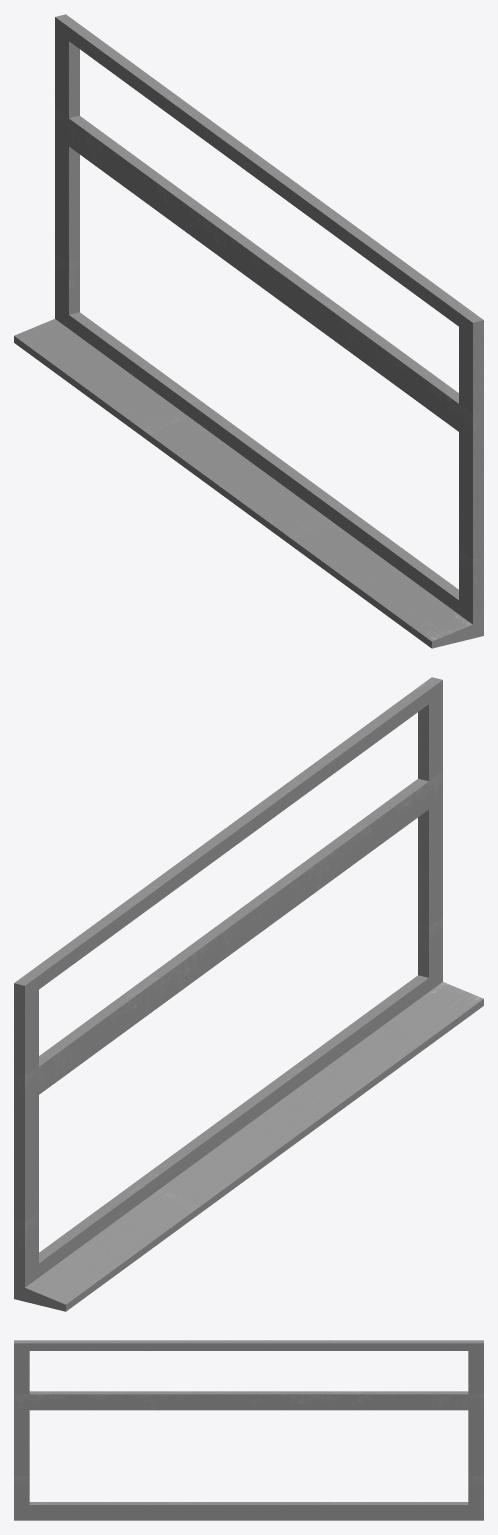
Rendered from Glass 1.fbx.
3 views of the same model, one above another, from view 1: azimuth 30°, elevation 25°; view 2: azimuth 150°, elevation 25°; view 3: azimuth 270°, elevation 25° (orthographic). The views are drawn at different scales.
Parts seen in each view (by area): view 1: Window; view 2: Window; view 3: Window.
Boxes of the visible parts, x1,y1,x2,y2 form: Window: (14, 14, 483, 648); Window: (14, 677, 483, 1311); Window: (14, 1340, 483, 1520).
Size of the model in its own units: 29.21 by 169 by 406.
